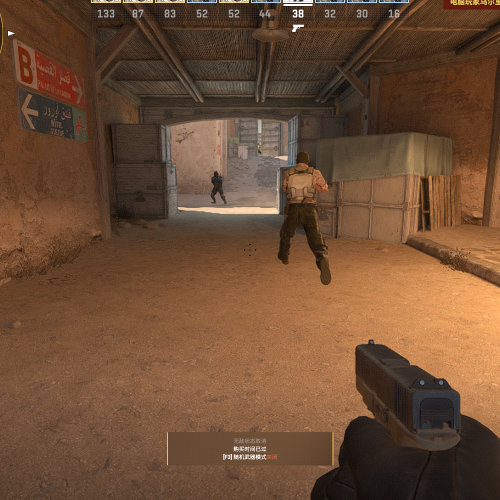ct_body: (210, 170, 227, 205)
ct_head: (212, 171, 219, 177)
t_body: (278, 150, 331, 284)
t_head: (296, 151, 309, 169)
